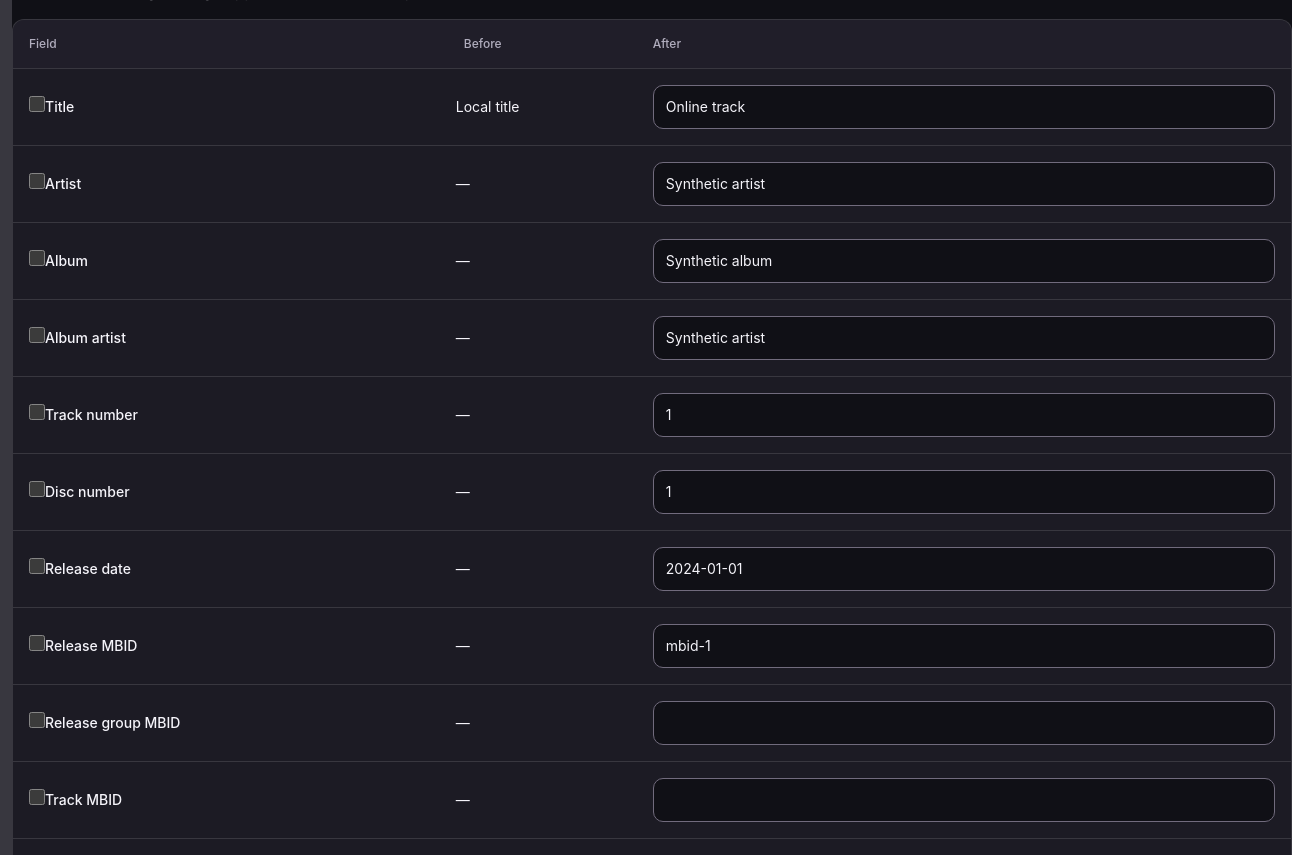
Scenario: keeps an immutable preview frozen and allows cancellation without execution
Expected: the text "Local title" is shown, [448,68,637,145]
Click the checkbox named "Write Title" at (37, 104), box [29,96,45,112]
(page scrolled)
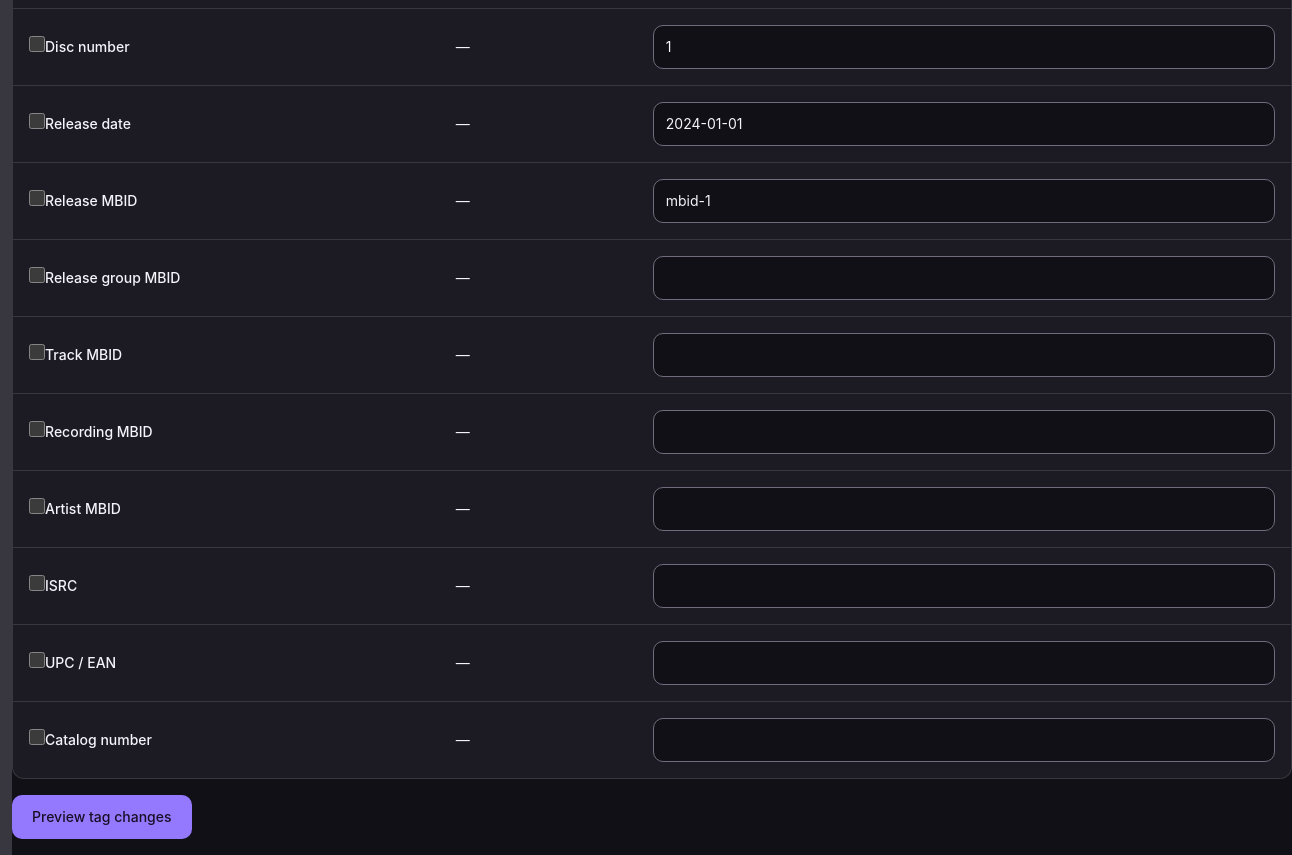
Click the button "Preview tag changes" at (102, 816), box [12,794,192,838]
(page scrolled)
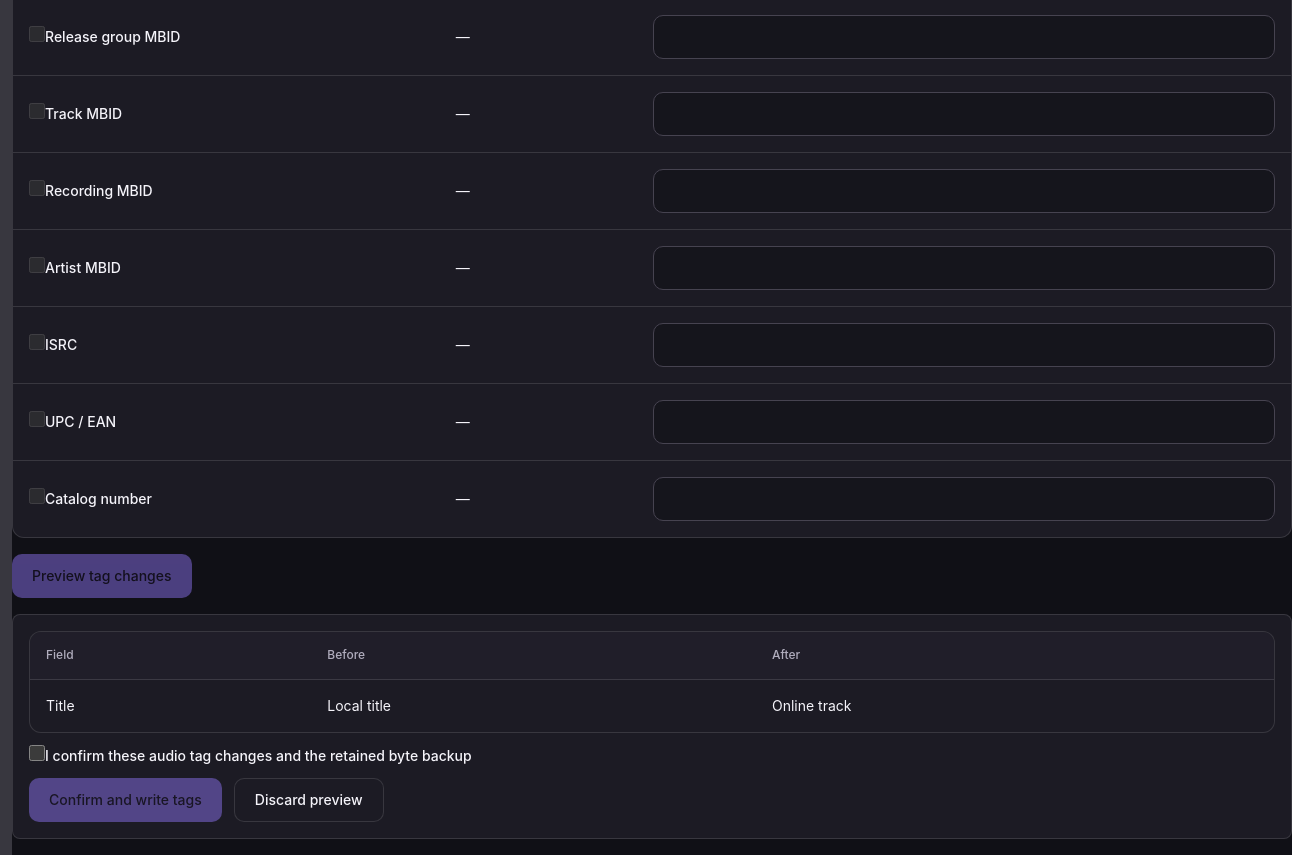
Expected: the button "Confirm and write tags" is shown, [29,778,222,822]
Click the button "Discard preview" at (309, 800), box [234,778,384,822]
(page scrolled)
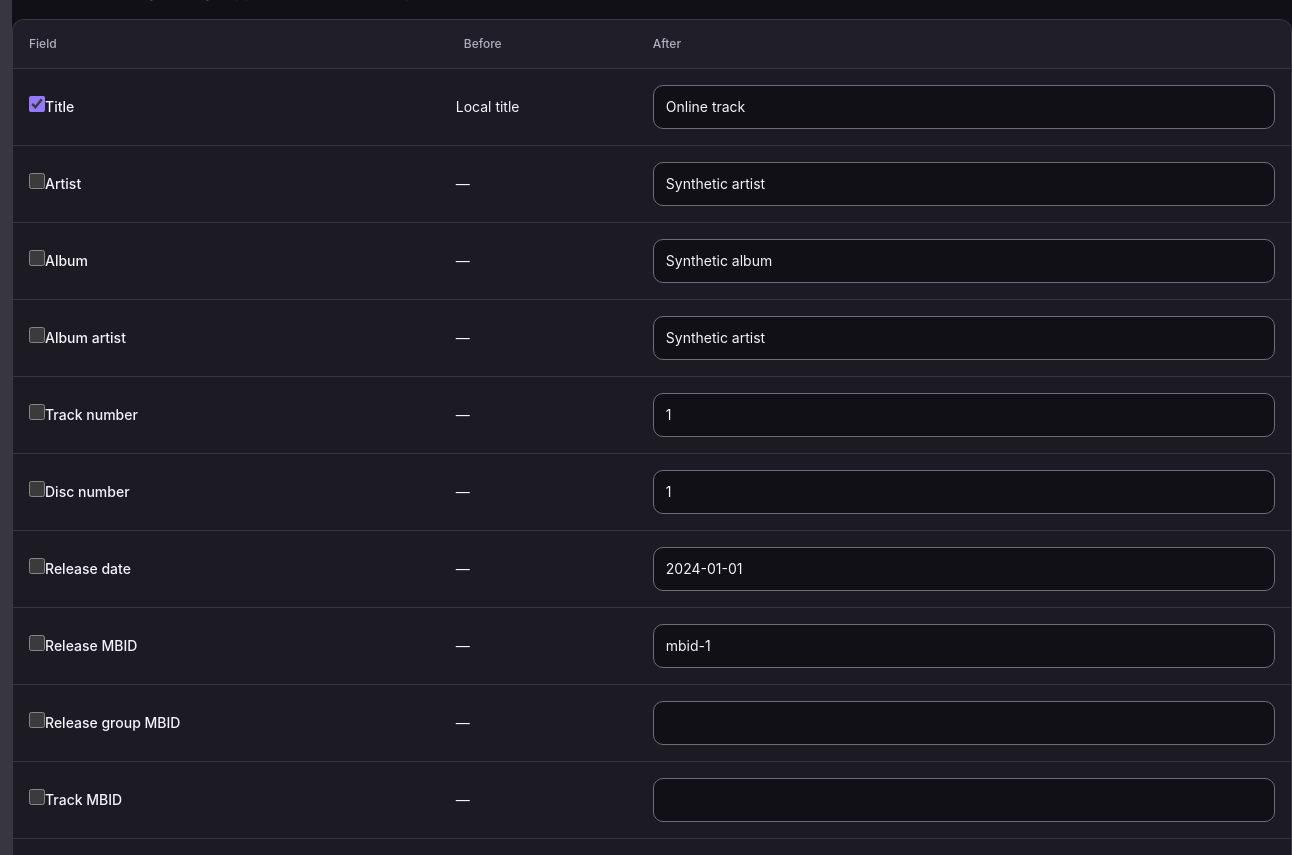
Expected: the field named "Title" is enabled, [653,84,1275,128]
